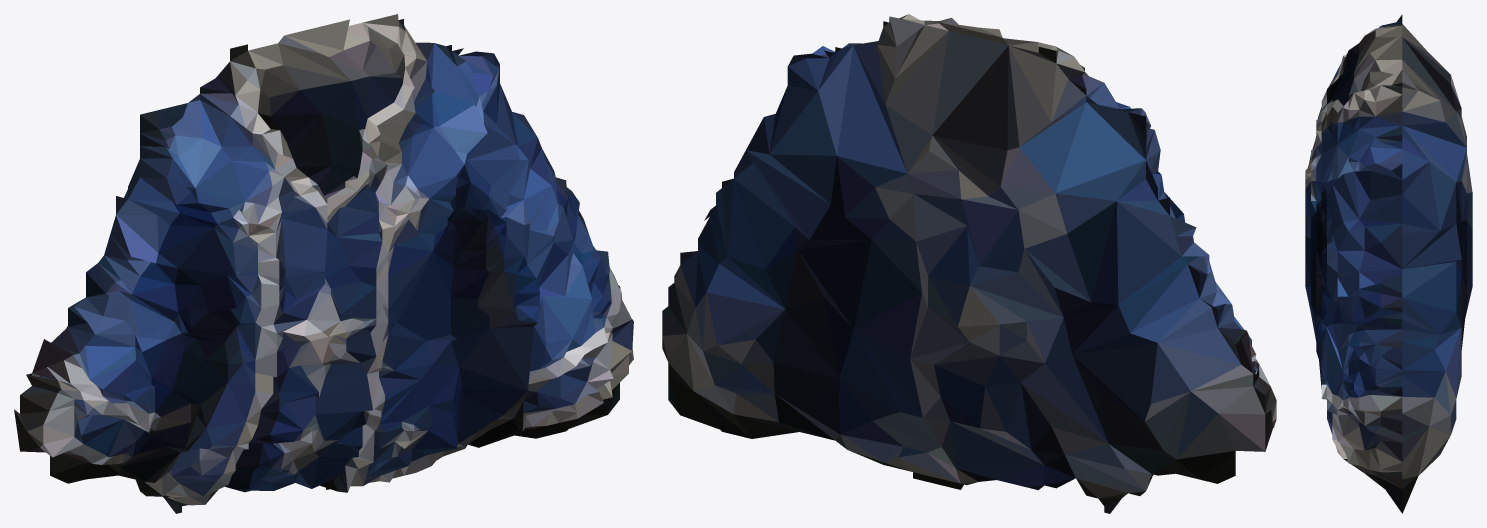
The model's file is B10_2_astral_robe_top.obj.
3 views of the same model, side by side, from view 1: azimuth 30°, elevation 25°; view 2: azimuth 150°, elevation 25°; view 3: azimuth 270°, elevation 25° (orthographic). The views are drawn at different scales.
Parts seen in each view (by area): view 1: B10_2_astral_robe_top; view 2: B10_2_astral_robe_top; view 3: B10_2_astral_robe_top.
Boxes of the visible parts, x1=… form: B10_2_astral_robe_top: x1=14, y1=14, x2=633, y2=513; B10_2_astral_robe_top: x1=662, y1=14, x2=1276, y2=513; B10_2_astral_robe_top: x1=1305, y1=14, x2=1472, y2=513.
Size of the model in its own units: 102 by 74 by 31.
